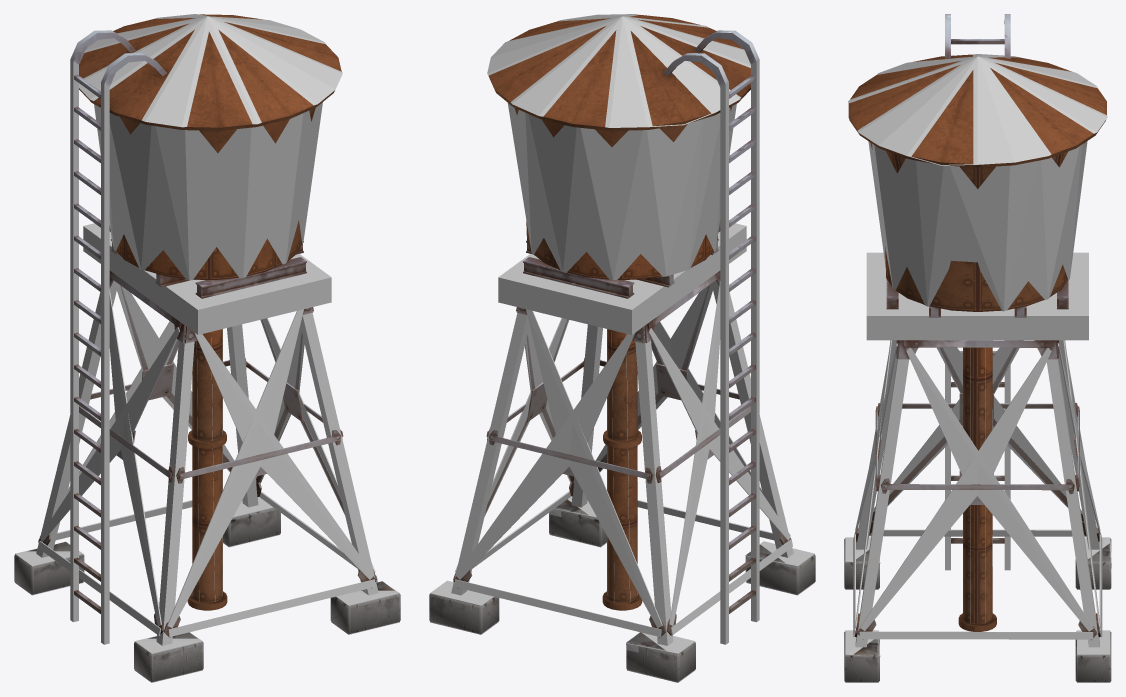
The model's file is SM_WaterTower03.fbx.
3 renders of one model, left to right at view 1: azimuth 30°, elevation 25°; view 2: azimuth 150°, elevation 25°; view 3: azimuth 270°, elevation 25°, orthographic. The views are drawn at different scales.
Parts seen in each view (by area): view 1: SM_WaterTower03_ConvexHulls, SM_WaterTower03; view 2: SM_WaterTower03_ConvexHulls, SM_WaterTower03; view 3: SM_WaterTower03_ConvexHulls, SM_WaterTower03.
Part boxes in pixels (left/top/right/bottom): SM_WaterTower03_ConvexHulls: left=15, top=14, right=399, bottom=682; SM_WaterTower03: left=14, top=14, right=400, bottom=681; SM_WaterTower03_ConvexHulls: left=430, top=14, right=814, bottom=682; SM_WaterTower03: left=429, top=15, right=815, bottom=681; SM_WaterTower03_ConvexHulls: left=845, top=54, right=1111, bottom=682; SM_WaterTower03: left=844, top=14, right=1111, bottom=681.
Bounding box in the file's own units: 365 × 350 × 820.
2 materials, 1 textured.
